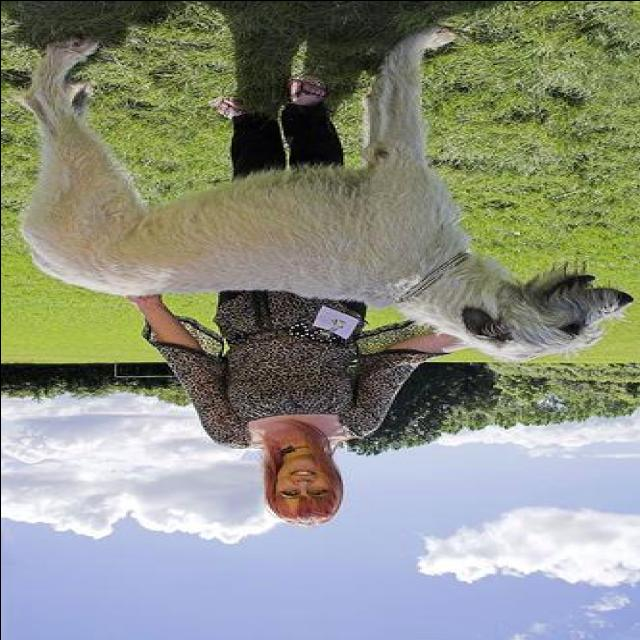irish_wolfhound: (6, 28, 634, 364)
